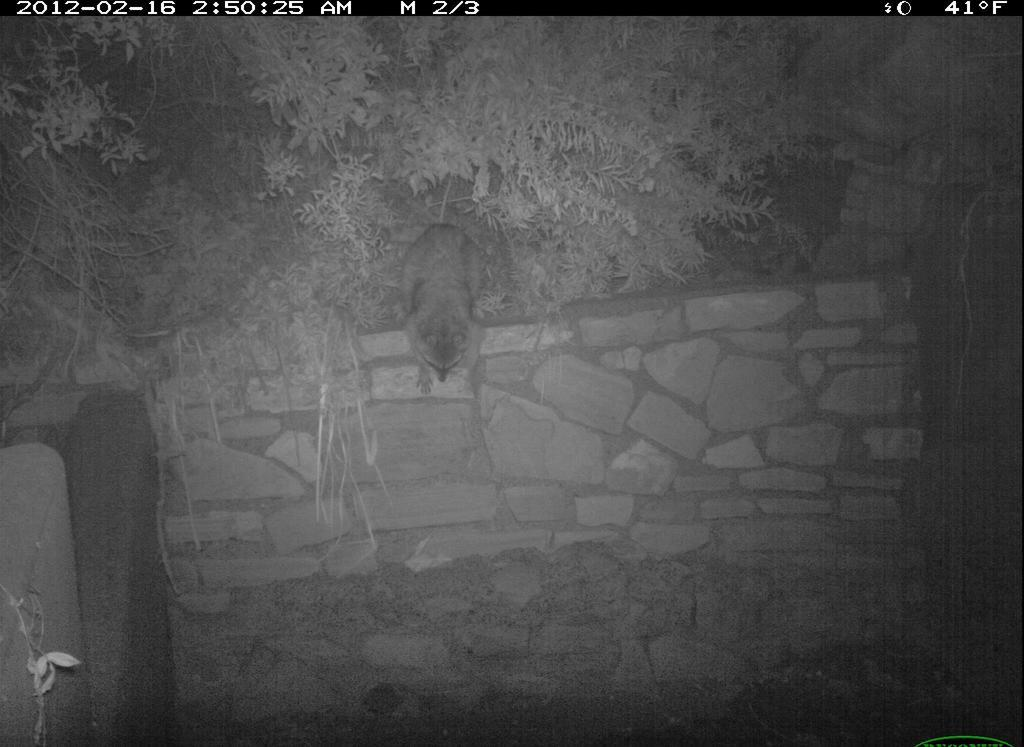raccoon: (388, 217, 496, 399)
